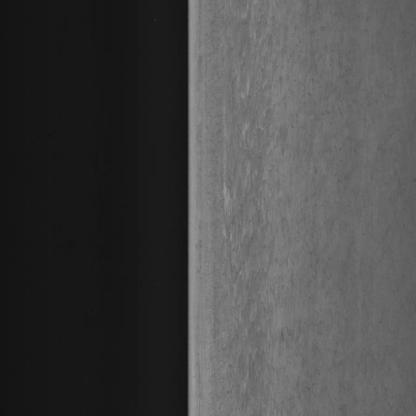silk_spot: (215, 20, 330, 382)
